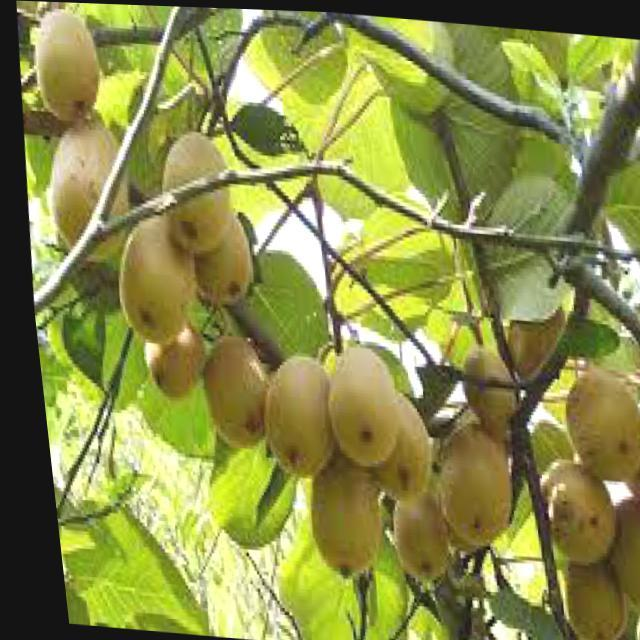kiwi: (35, 113, 132, 262), (101, 208, 197, 343), (420, 415, 509, 547), (244, 345, 331, 476), (312, 337, 397, 468), (161, 193, 254, 307), (148, 129, 230, 253), (549, 366, 640, 473), (26, 3, 105, 124), (293, 457, 374, 574), (192, 326, 263, 450), (522, 450, 606, 554), (372, 463, 444, 580), (347, 388, 424, 495), (547, 543, 616, 639), (494, 289, 567, 378), (589, 490, 640, 613), (129, 311, 199, 400), (449, 340, 511, 425), (601, 401, 640, 509), (615, 590, 640, 640)
